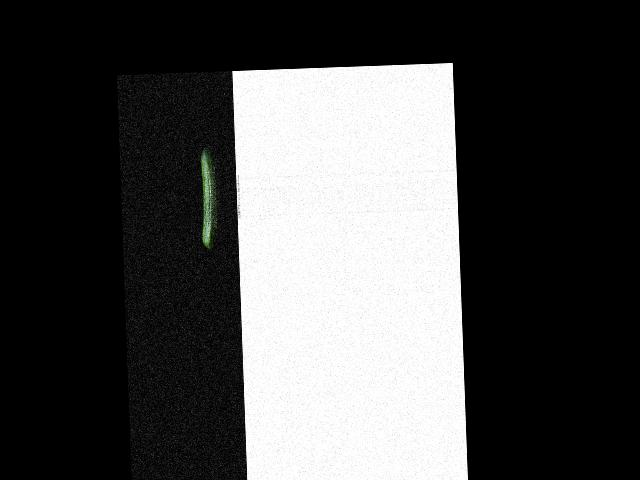cucumber: (199, 146, 218, 249)
